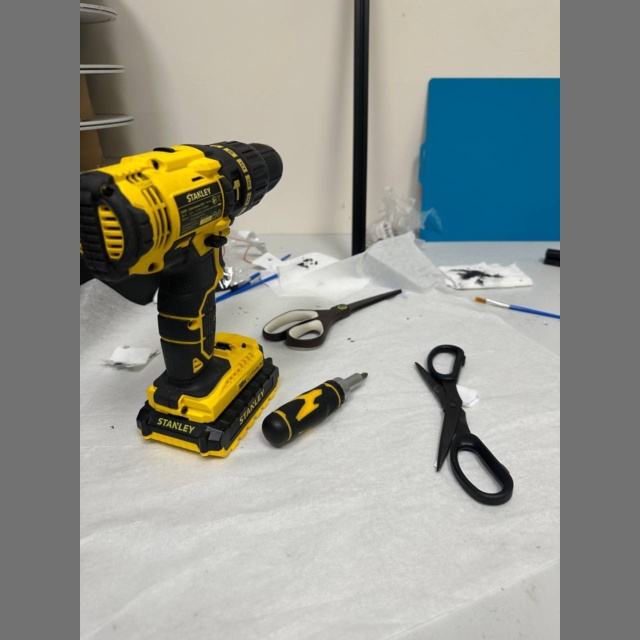drill: (80, 141, 282, 456)
scissor: (415, 344, 514, 505), (263, 289, 402, 349)
screwdriver: (262, 372, 368, 447)
